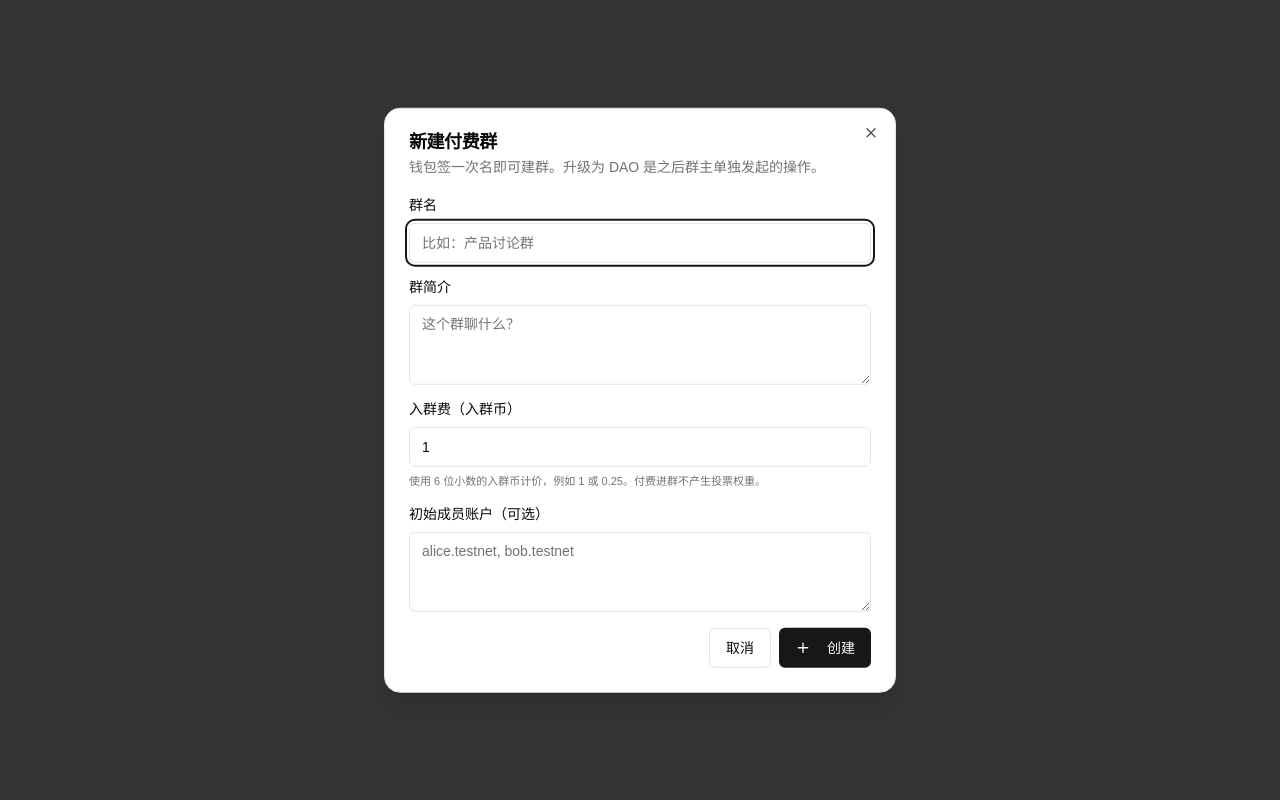
it: create group flow › never redirects when the chain read returns no group id
Type "Builders" into the field labelled "群名" at (640, 243), box 409,223 -> 871,263
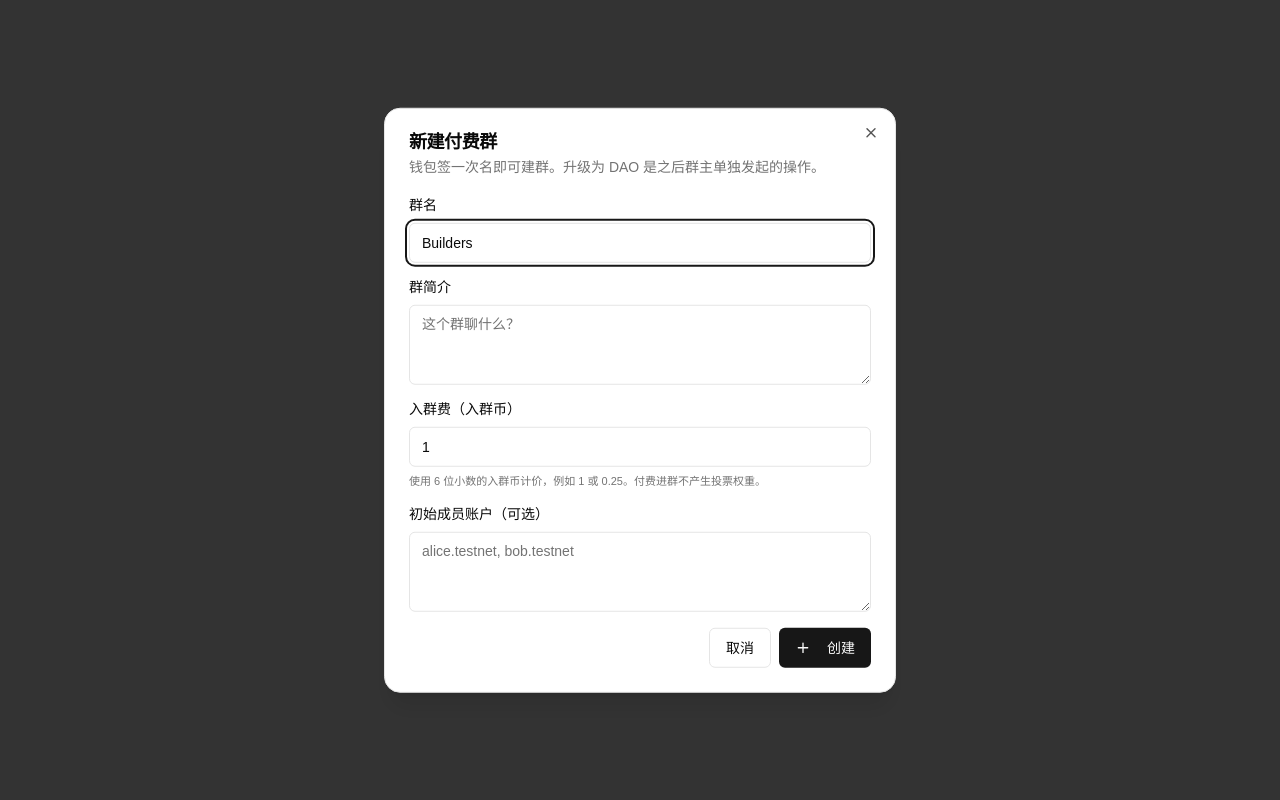
Click the button "创建" at (825, 647), box 779,627 -> 871,667
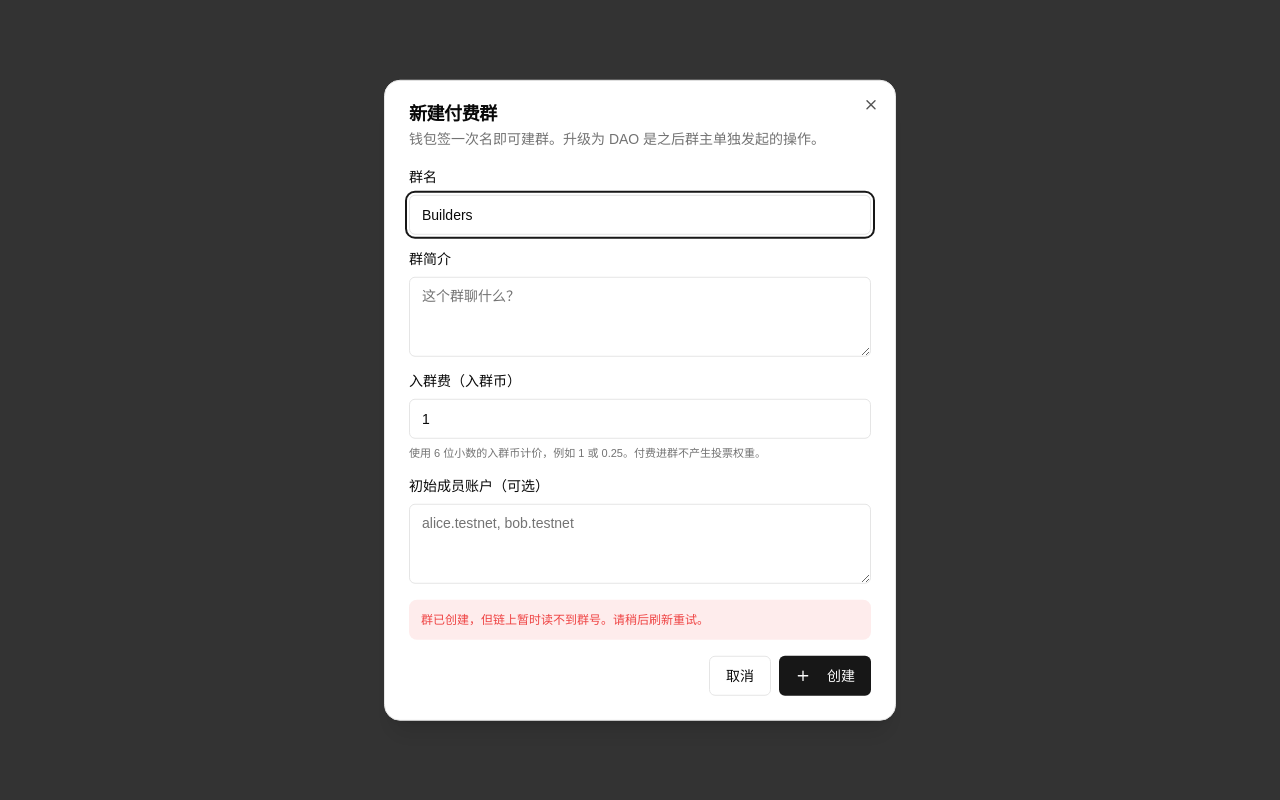
Expected: the text "群已创建，但链上暂时读不到群号。请稍后刷新重试。" is shown, 409,599 -> 871,639
